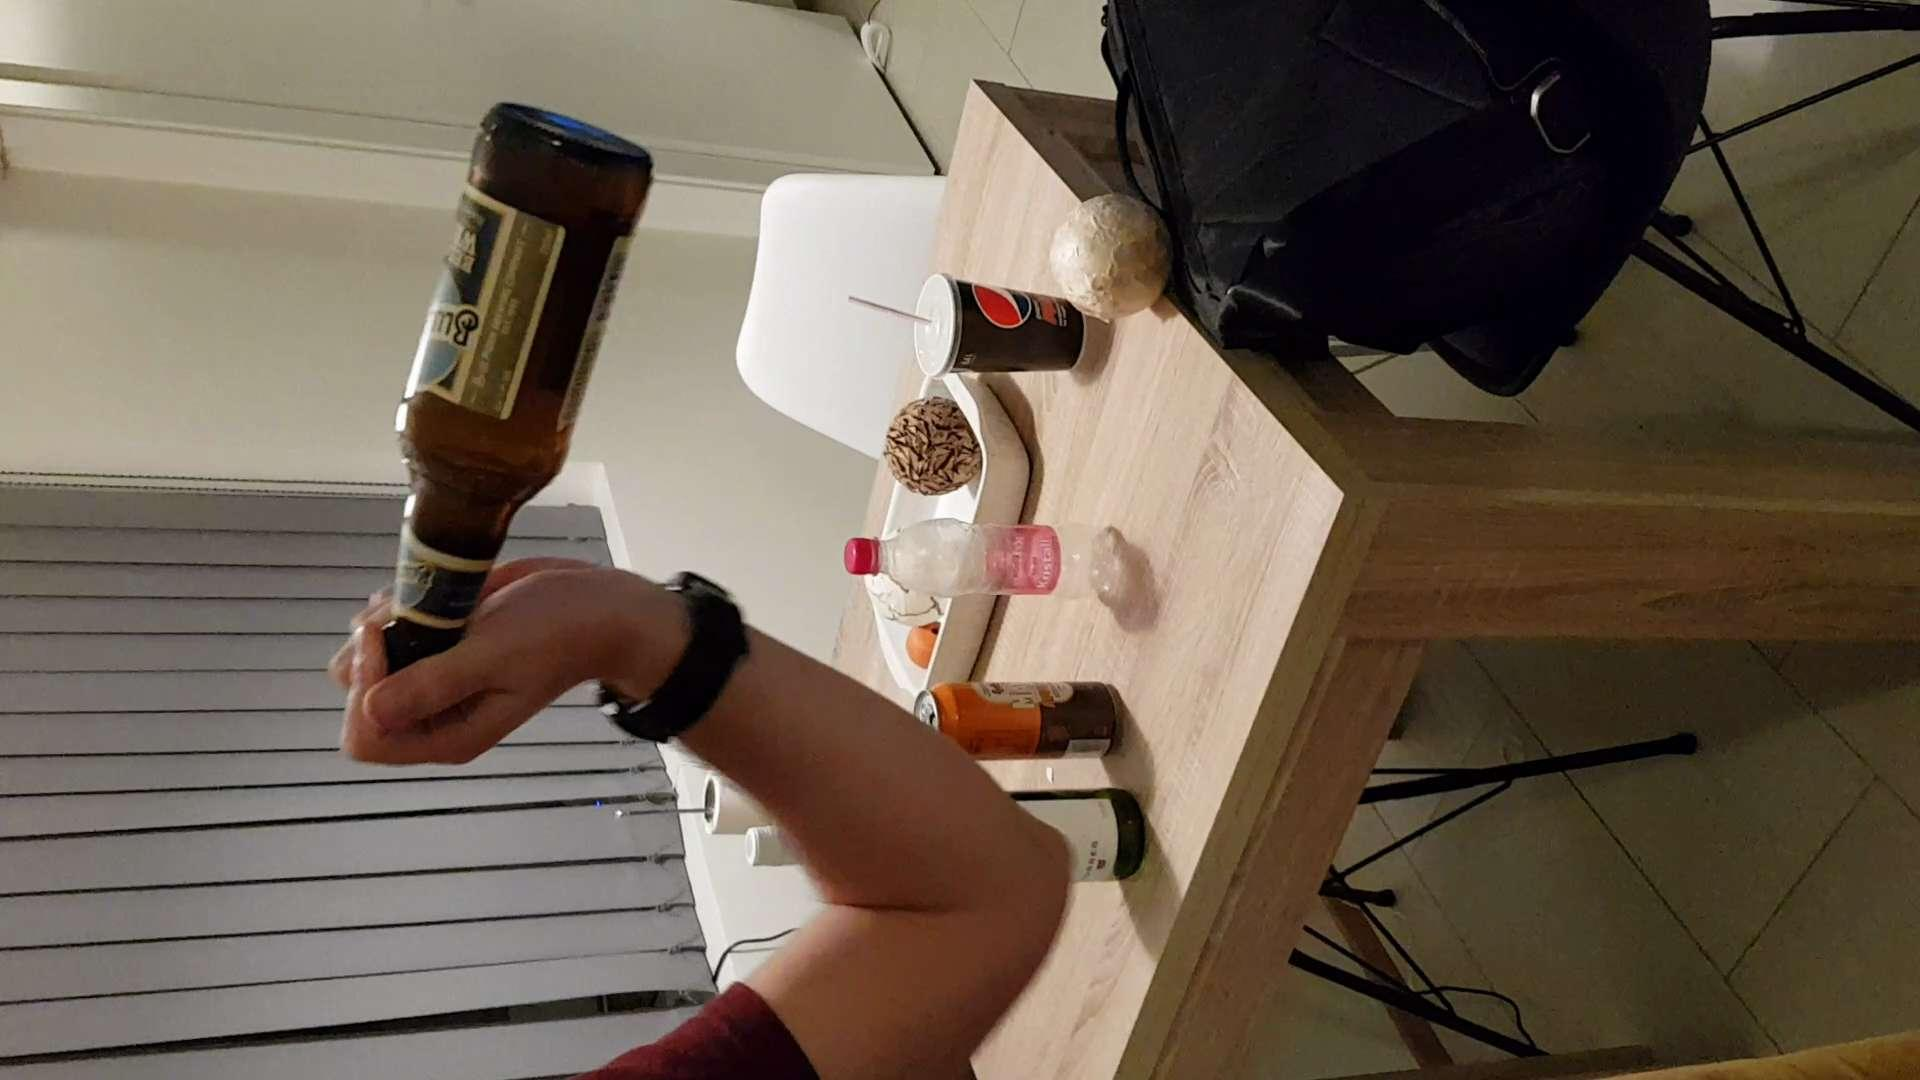Bottle: (369, 105, 659, 736)
Sphere: (1036, 190, 1168, 324), (876, 393, 997, 498)
